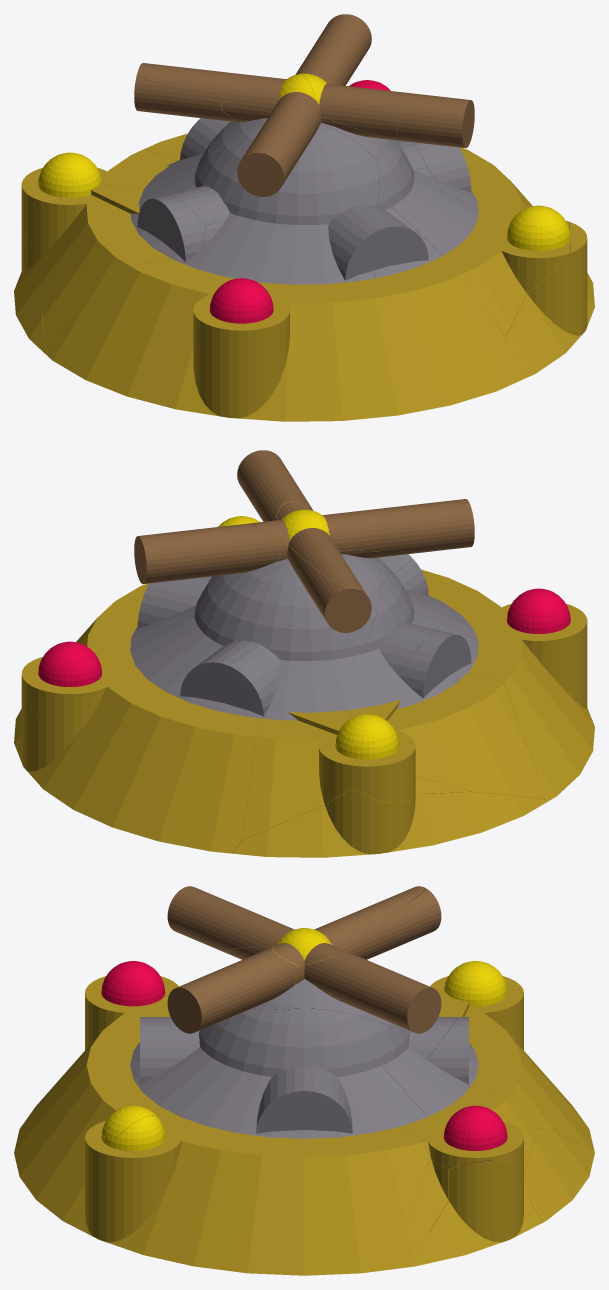
File: LandBunkerDebris.dae
The picture shows the model from 3 angles, top to bottom: view 1: azimuth 30°, elevation 25°; view 2: azimuth 150°, elevation 25°; view 3: azimuth 270°, elevation 25°; orthographic projection.
Parts seen in each view (by area): view 1: Cylinder_cell.012, Cylinder_cell.015, Sphere.004_cell.001, Cone_cell.005, Cylinder_cell.020, Cylinder_cell.006, Sphere_cell.007, Cone_cell.002, Sphere.004_cell.005, Cylinder.006_cell, Sphere.004_cell, Sphere_cell.005 (+27 smaller); view 2: Cylinder_cell.012, Cylinder_cell.013, Cylinder_cell.015, Sphere.004_cell.001, Cylinder_cell.011, Cone_cell.001, Sphere.004_cell.002, Cylinder_cell.003, Cylinder_cell.001, Cylinder_cell.018, Sphere_cell.004, Cylinder_cell.019 (+33 smaller); view 3: Cylinder_cell.006, Cylinder_cell.020, Cylinder_cell.012, Cylinder_cell.014, Sphere.004_cell.001, Sphere_cell.006, Sphere.004_cell.002, Cylinder_cell.013, Cone_cell.002, Cylinder_cell.003, Cylinder.000_cell.001, Sphere_cell.002 (+25 smaller).
Part boxes in pixels (x1,y1,x2,y2): Cylinder_cell.012: (46,258,525,421); Cylinder_cell.015: (42,195,170,350); Sphere.004_cell.001: (137,64,316,196); Cone_cell.005: (173,213,375,284); Cylinder_cell.020: (426,147,532,336); Cylinder_cell.006: (463,222,594,378); Sphere_cell.007: (282,123,379,224); Cone_cell.002: (392,177,478,255); Sphere.004_cell.005: (396,93,474,148); Cylinder.006_cell: (331,204,426,267); Sphere.004_cell: (316,86,408,140); Sphere_cell.005: (195,158,311,224); Cylinder_cell.012: (421,569,594,801); Cylinder_cell.013: (126,697,265,853); Cylinder_cell.015: (387,672,544,798); Sphere.004_cell.001: (286,499,474,591); Cylinder_cell.011: (242,719,357,840); Cone_cell.001: (265,649,469,720); Sphere.004_cell.002: (134,523,286,584); Cylinder_cell.003: (42,748,165,842); Cylinder_cell.001: (232,789,384,857); Cylinder_cell.018: (379,792,546,849); Sphere_cell.004: (224,557,380,647); Cylinder_cell.019: (66,651,176,749); Cylinder_cell.006: (32,1141,410,1275); Cylinder_cell.020: (59,1083,429,1242); Cylinder_cell.012: (14,976,178,1193); Cylinder_cell.014: (410,1160,542,1266); Sphere.004_cell.001: (167,886,425,953); Sphere_cell.006: (273,1008,398,1076); Sphere.004_cell.002: (304,950,441,1033); Cylinder_cell.013: (405,1038,593,1149); Cone_cell.002: (144,1051,252,1129); Cylinder_cell.003: (524,1128,594,1222); Cylinder.000_cell.001: (256,1072,344,1133); Sphere_cell.002: (199,1009,284,1076).
Size of the model in its own units: 7.5 by 7.5 by 3.16.
